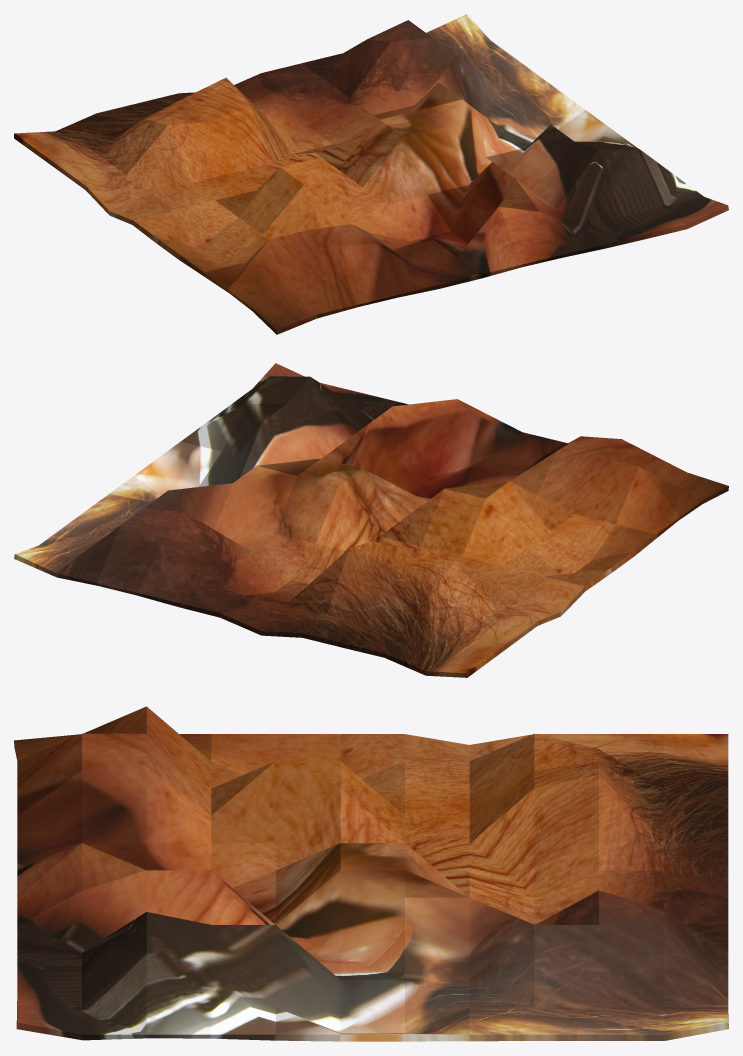
Rendered from modeloprueba.obj.
3 renders of one model, top to bottom at view 1: azimuth 30°, elevation 25°; view 2: azimuth 150°, elevation 25°; view 3: azimuth 270°, elevation 25°, orthographic. The views are drawn at different scales.
Visible parts, largest first — view 1: Plane; view 2: Plane; view 3: Plane.
Boxes of the visible parts, <box> form: Plane: <box>14,14,728,334</box>; Plane: <box>14,363,728,677</box>; Plane: <box>14,706,728,1041</box>.
Size of the model in its own units: 4.02 by 0.6271 by 4.02.
